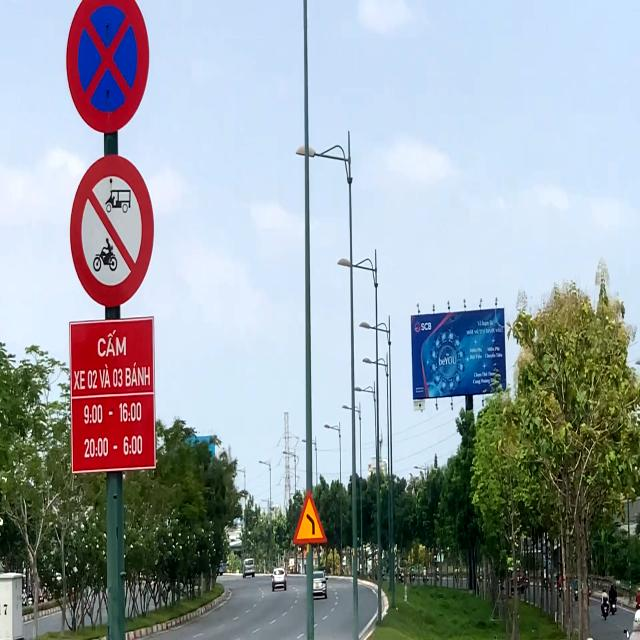P.130: (65, 0, 150, 134)
W.201a: (292, 489, 328, 545)
